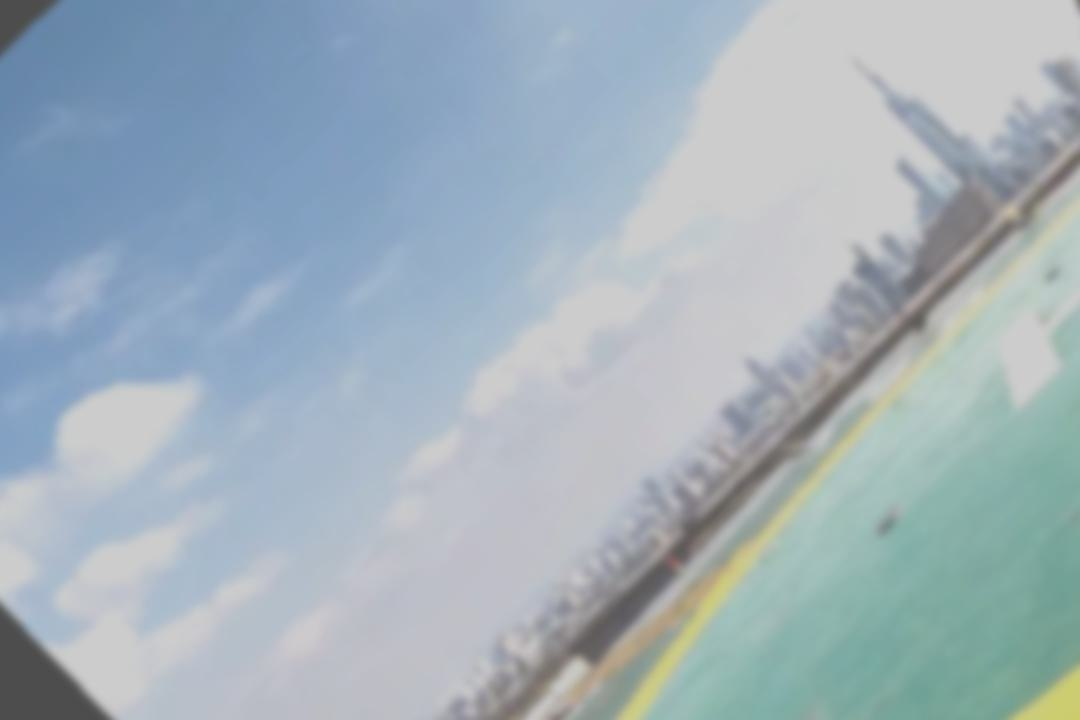Apron: (619, 160, 1080, 720)
